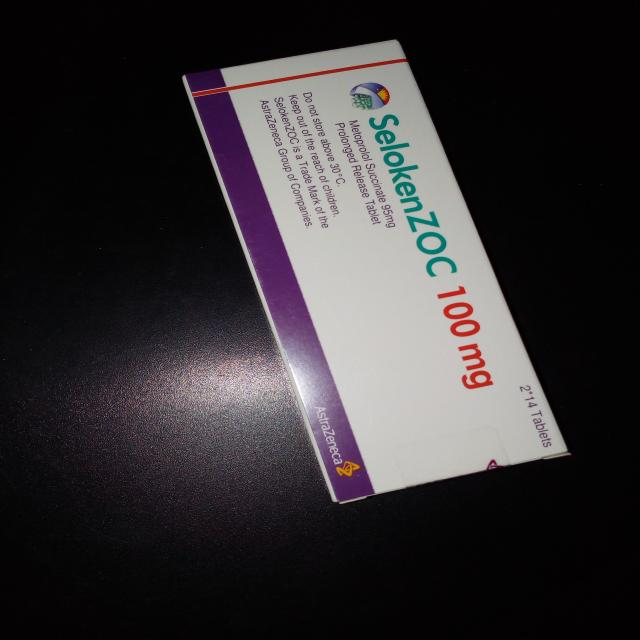Medicine: (174, 35, 575, 507)
